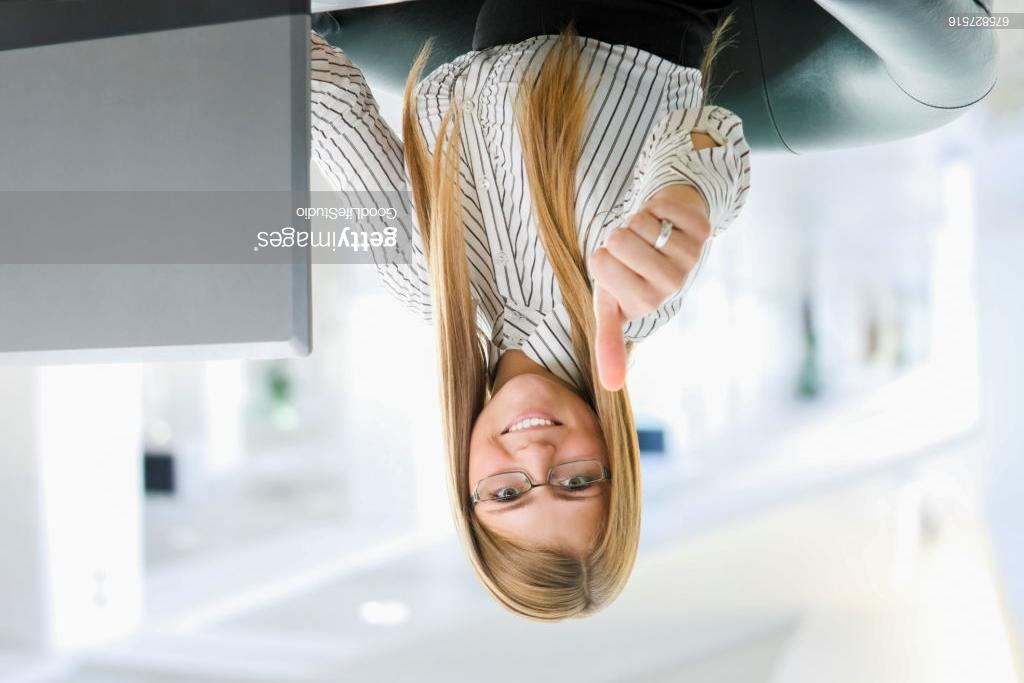thumbsdown: (591, 200, 713, 392)
